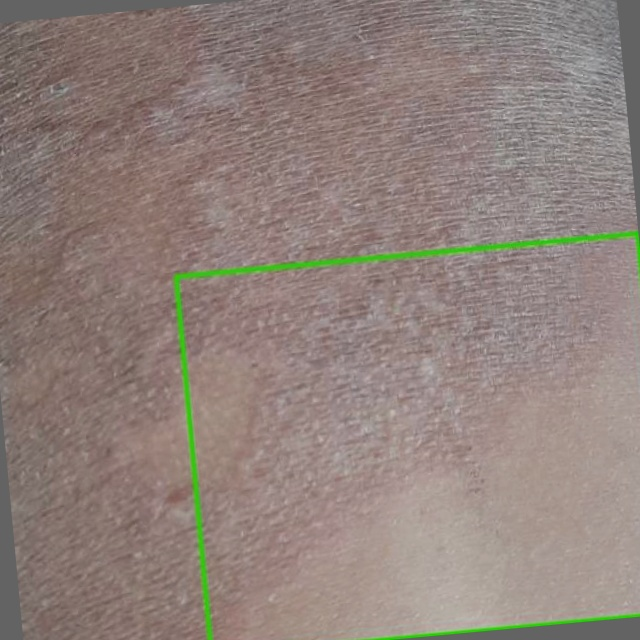Tinea Corporis: (176, 233, 639, 639)
